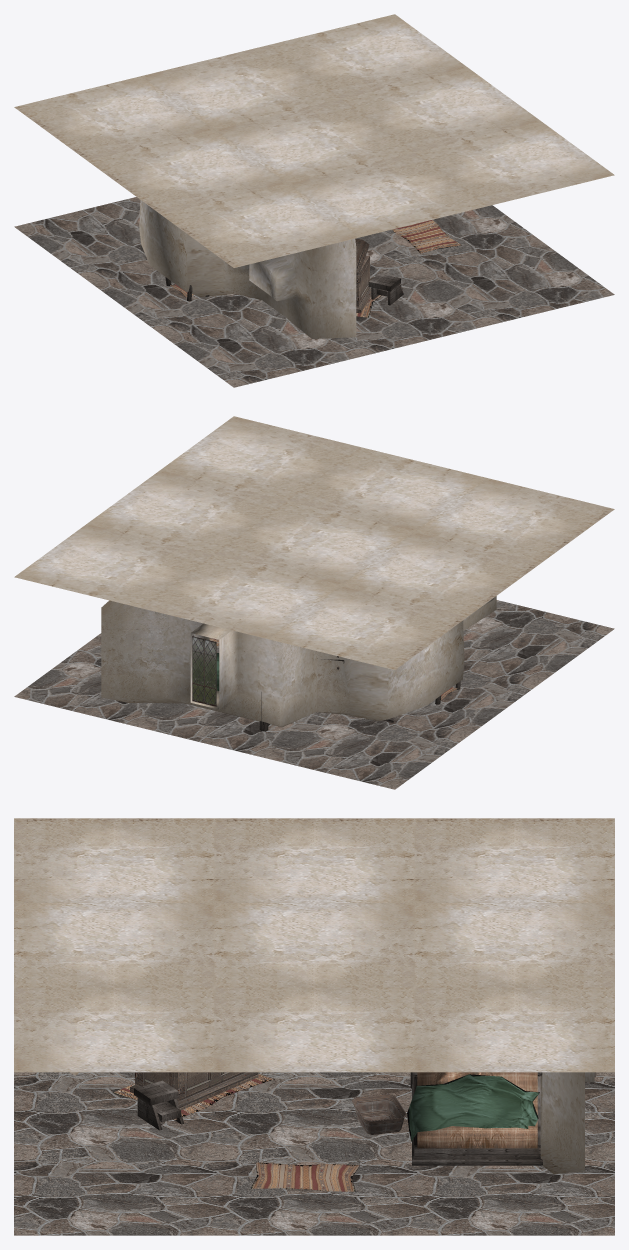
Rendered from kokoto_house.glb.
3 renders of one model, top to bottom at view 1: azimuth 30°, elevation 25°; view 2: azimuth 150°, elevation 25°; view 3: azimuth 270°, elevation 25°, orthographic. The views are drawn at different scales.
Parts seen in each view (by area): view 1: FModMeshpart 001; view 2: FModMeshpart 001; view 3: FModMeshpart 001.
Boxes of the visible parts, x1,y1,x2,y2 form: FModMeshpart 001: [14, 14, 614, 387]; FModMeshpart 001: [14, 416, 614, 789]; FModMeshpart 001: [14, 818, 614, 1235].
Size of the model in its own units: 10 by 3.01 by 10.
5 materials, 5 textured.
